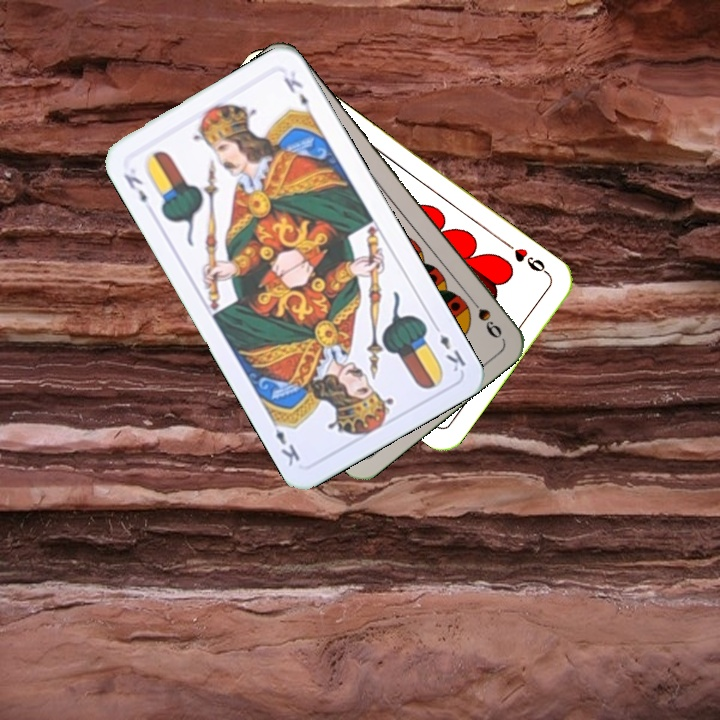EK: (428, 318, 469, 375), (119, 169, 150, 206)
H9: (500, 238, 552, 278)
S9: (463, 290, 505, 342)
